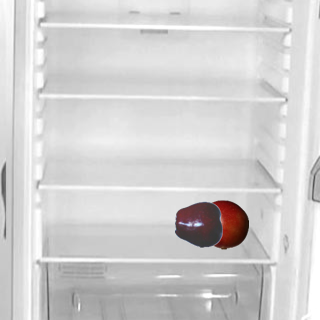Apple Braeburn: (198, 199, 248, 249)
Apple Red Delicious: (174, 199, 224, 249)
